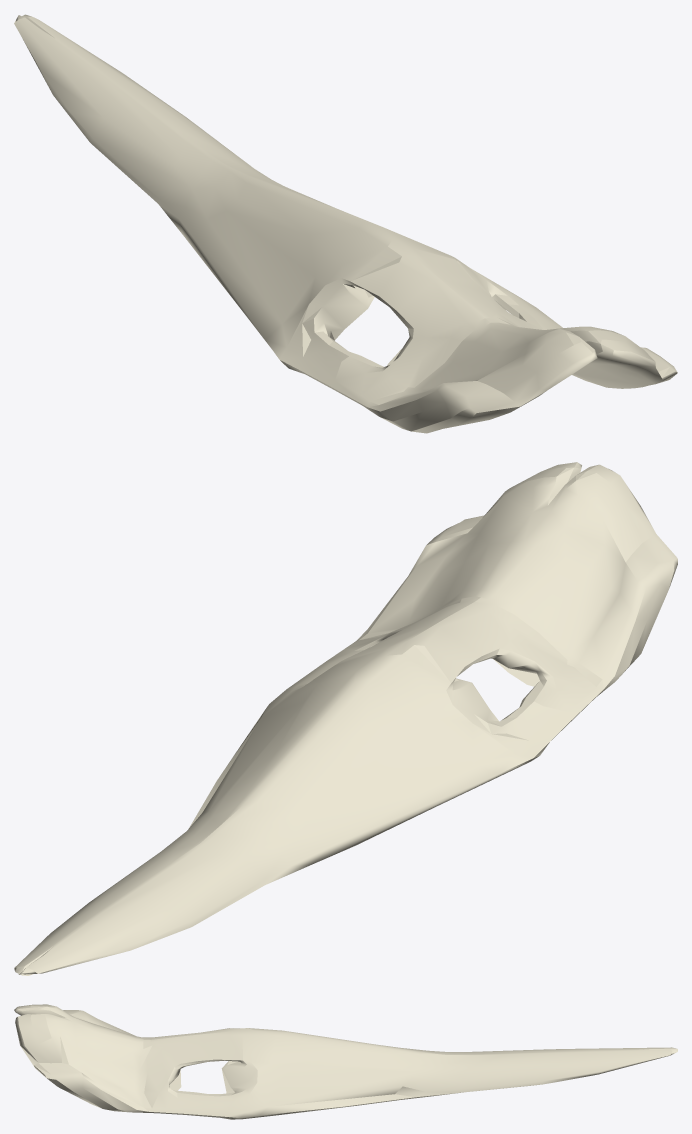
The model's file is Os_Haut.fbx.
3 views of the same model, one above another, from view 1: azimuth 30°, elevation 25°; view 2: azimuth 150°, elevation 25°; view 3: azimuth 270°, elevation 25° (orthographic). The views are drawn at different scales.
Parts seen in each view (by area): view 1: Os_Haut.001; view 2: Os_Haut.001; view 3: Os_Haut.001.
Part boxes in pixels (bbox=[...]): Os_Haut.001: bbox=[14, 14, 677, 433]; Os_Haut.001: bbox=[14, 462, 677, 975]; Os_Haut.001: bbox=[14, 1004, 677, 1119].
Size of the model in its own units: 933 by 462 by 3622.
